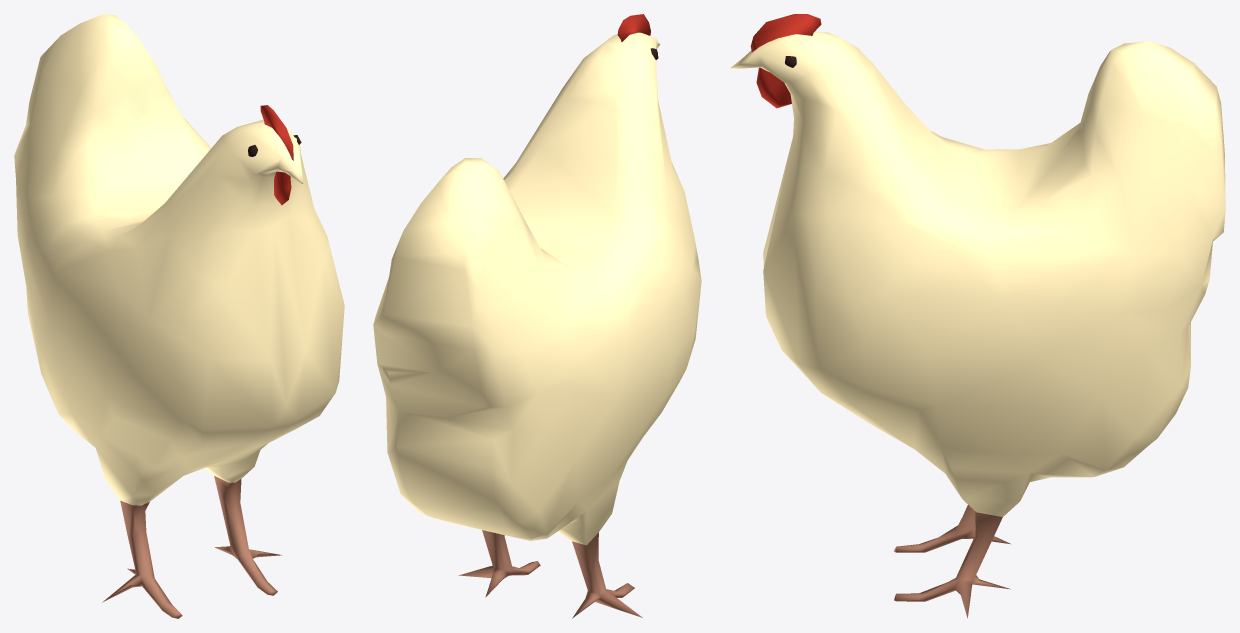
Rendered from Chicken.glb.
The picture shows the model from 3 angles, left to right: view 1: azimuth 30°, elevation 25°; view 2: azimuth 150°, elevation 25°; view 3: azimuth 270°, elevation 25°; orthographic projection. The views are drawn at different scales.
Visible parts, largest first — view 1: Chicken; view 2: Chicken; view 3: Chicken.
Part boxes in pixels (x1,y1,x2,y2): Chicken: [14, 14, 344, 618]; Chicken: [373, 14, 701, 618]; Chicken: [731, 14, 1225, 618].
Size of what is drawn, in the model's own units: 0.2935 by 0.6878 by 0.5488.
1 material, 1 textured.
